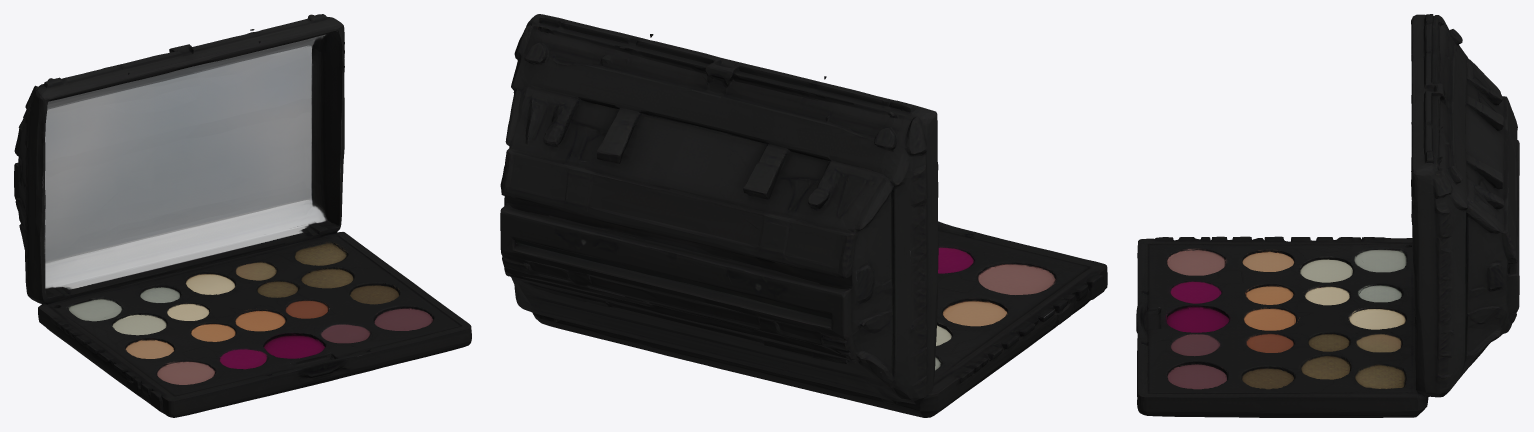
File: laptop.glb
The picture shows the model from 3 angles, left to right: view 1: azimuth 30°, elevation 25°; view 2: azimuth 150°, elevation 25°; view 3: azimuth 270°, elevation 25°; orthographic projection. The views are drawn at different scales.
Visible parts, largest first — view 1: world; view 2: world; view 3: world.
Boxes of the visible parts, box(x1,y1,x2,y2) form: world: box(14, 14, 471, 417); world: box(500, 14, 1107, 417); world: box(1136, 14, 1519, 417).
Bounding box in the file's own units: 0.9989 × 0.7379 × 0.9999.
1 material, 1 textured.
